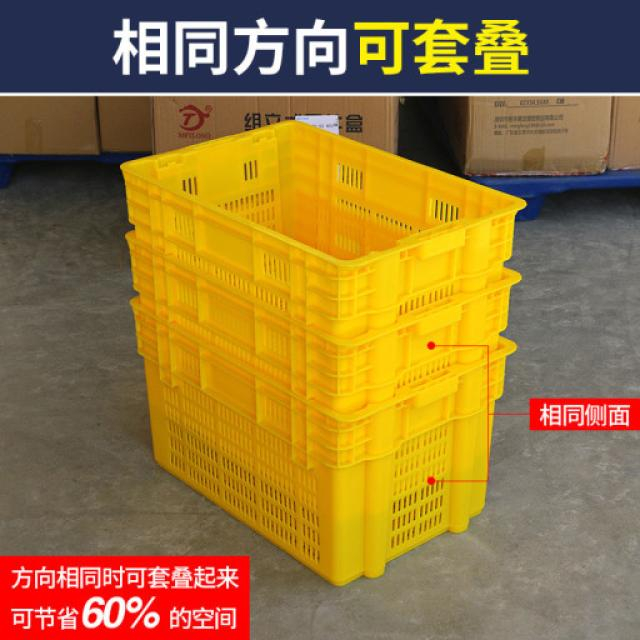basket: (123, 121, 522, 584), (92, 71, 530, 382), (119, 359, 499, 604)
